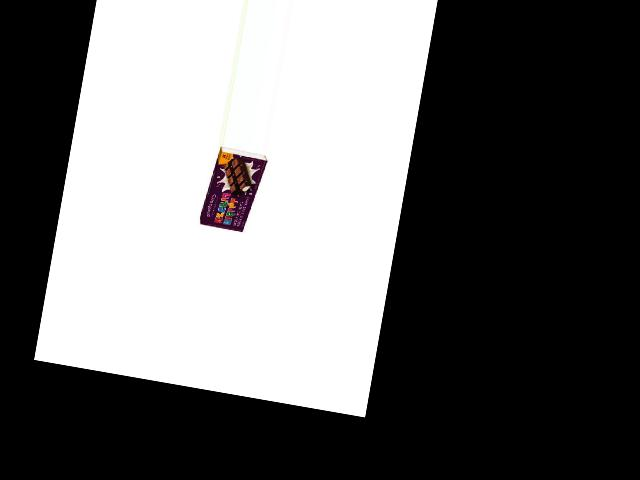chocolate: (197, 144, 264, 239)
